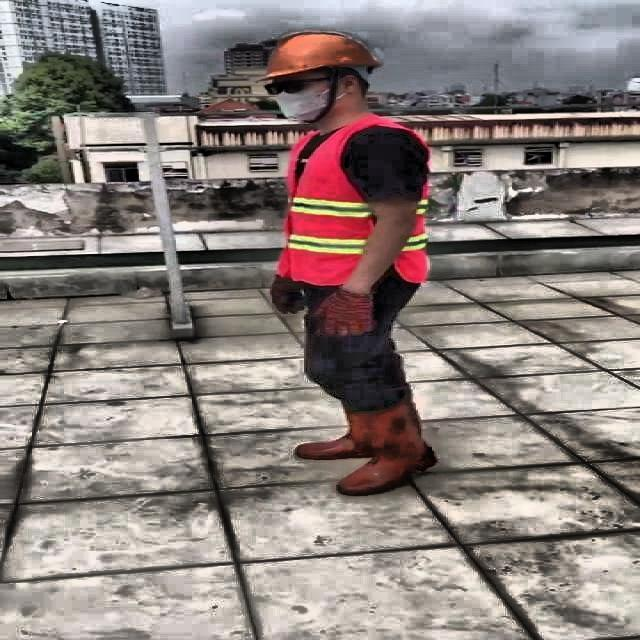safety_helmet: (260, 30, 378, 76)
safety_jacket: (280, 123, 436, 284)
